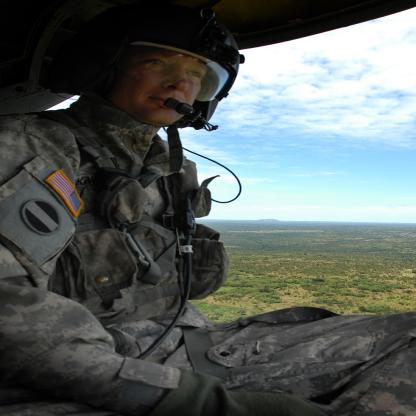Helmet: (30, 6, 258, 137)
